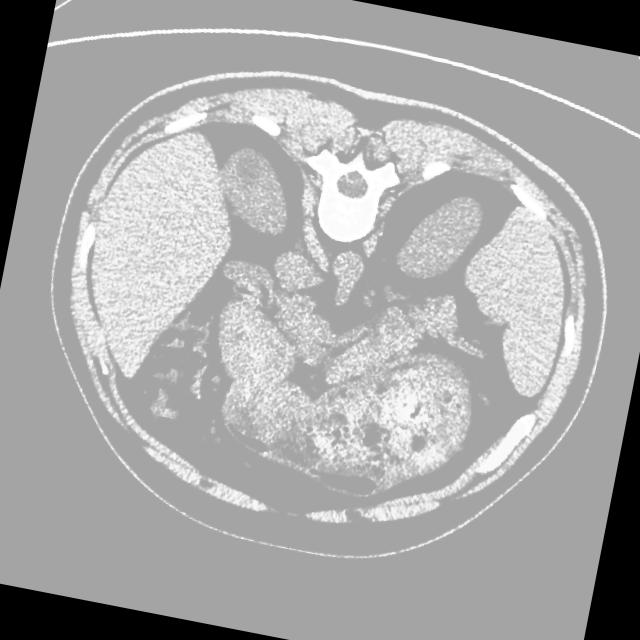cysts: (16, 39, 632, 588)
